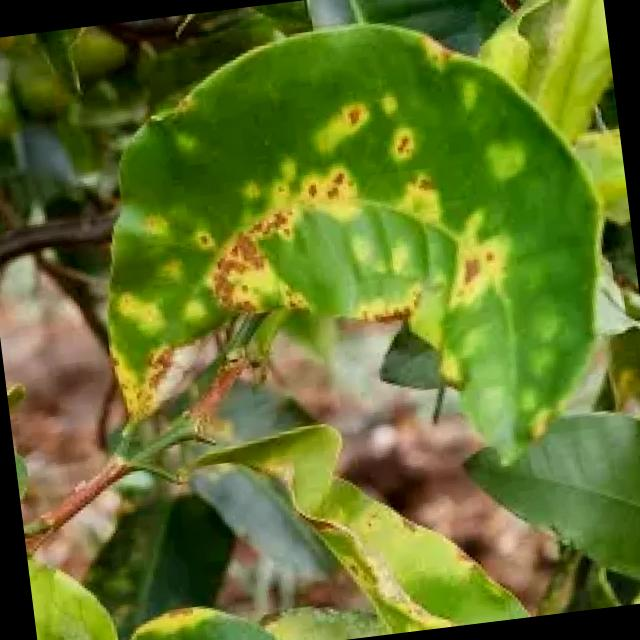leaf_spot: (111, 23, 601, 454)
